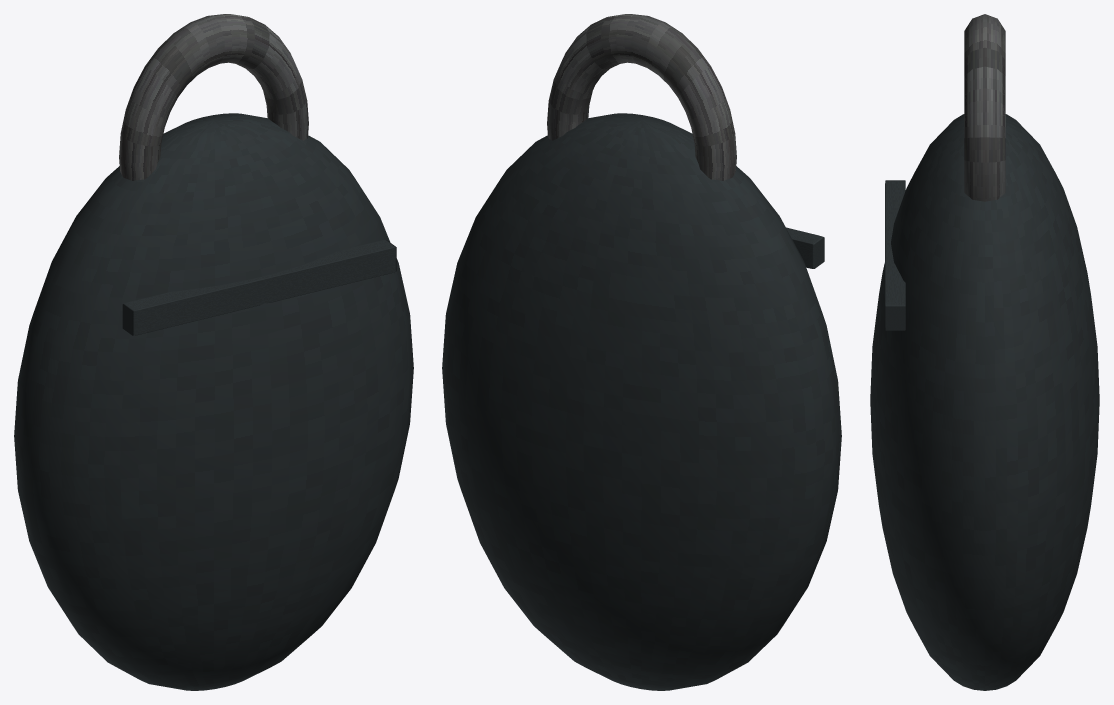
The model's file is harness.glb.
3 views of the same model, side by side, from view 1: azimuth 30°, elevation 25°; view 2: azimuth 150°, elevation 25°; view 3: azimuth 270°, elevation 25° (orthographic).
Visible parts, largest first — view 1: soft-body, strap, zip; view 2: soft-body, strap, zip; view 3: soft-body, strap, zip.
Boxes of the visible parts, left/top/right/bottom form: soft-body: left=14, top=113, right=413, bottom=690; strap: left=119, top=14, right=308, bottom=180; zip: left=122, top=240, right=396, bottom=335; soft-body: left=442, top=113, right=841, bottom=690; strap: left=547, top=14, right=736, bottom=180; zip: left=786, top=227, right=824, bottom=268; soft-body: left=870, top=114, right=1099, bottom=690; strap: left=964, top=14, right=1005, bottom=201; zip: left=885, top=180, right=905, bottom=330.
Bounding box in the file's own units: 0.34 × 0.5672 × 0.18.
2 materials, 2 textured.
